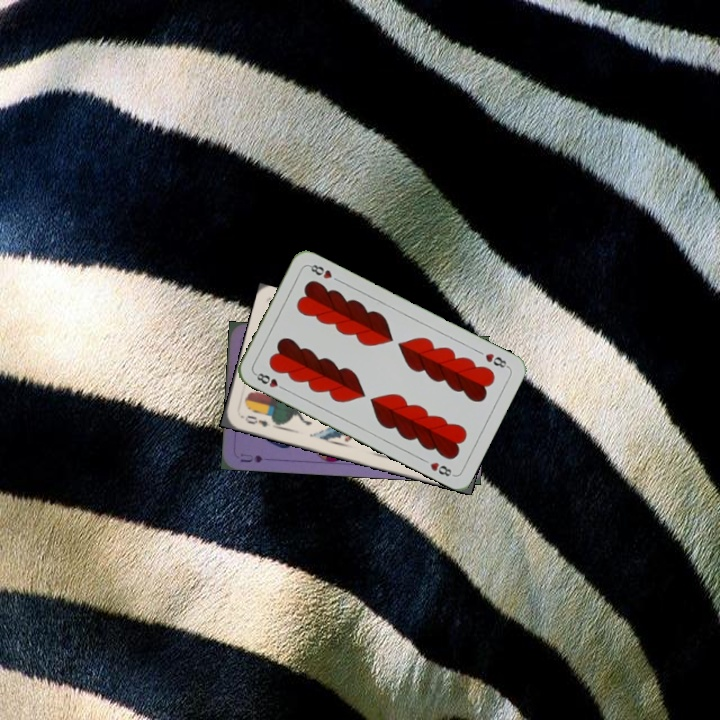EO: (238, 411, 278, 430)
H8: (251, 369, 289, 393), (481, 349, 511, 370)
SU: (236, 449, 265, 465)
